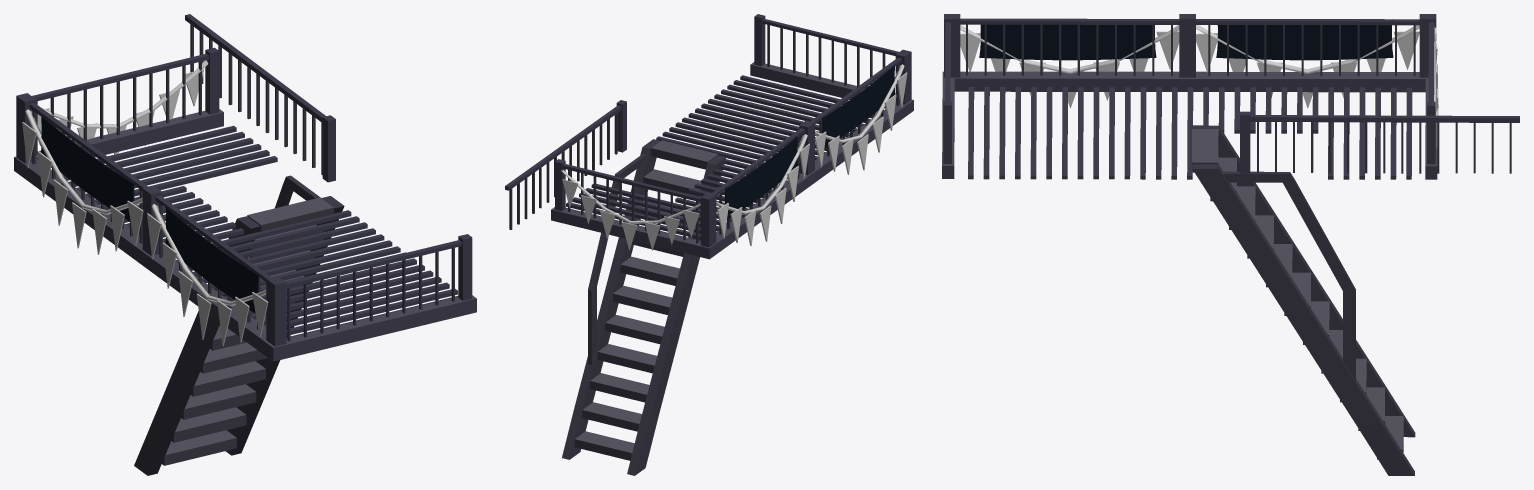
File: CMF1Stairs.fbx
The picture shows the model from 3 angles, left to right: view 1: azimuth 30°, elevation 25°; view 2: azimuth 150°, elevation 25°; view 3: azimuth 270°, elevation 25°; orthographic projection. The views are drawn at different scales.
Parts seen in each view (by area): view 1: BalconyBottom.011, BalconyBottom.010, Stairs.108, StairSides.004, BalconyRailing.105, BalconyRailing.037, BalconyRailing.106, BalconyRailing.104, FK_Banner.008, FK_Banner.007, Arc.005, Arc.004 (+1 smaller); view 2: BalconyBottom.011, Stairs.108, StairSides.004, BalconyBottom.010, BalconyRailing.106, BalconyRailing.037, BalconyRailing.105, BalconyRailing.104, Arc.005, Arc.004, Flags, FK_Banner.007 (+1 smaller); view 3: StairSides.004, BalconyBottom.011, BalconyBottom.010, BalconyRailing.104, FK_Banner.007, FK_Banner.008, Stairs.108, BalconyRailing.037, Arc.005, Arc.004, BalconyRailing.105, BalconyRailing.106.
Part boxes in pixels (left/top/right/bottom): BalconyBottom.011: left=65, top=125, right=458, bottom=338; BalconyBottom.010: left=14, top=109, right=476, bottom=361; Stairs.108: left=162, top=197, right=333, bottom=465; StairSides.004: left=134, top=175, right=344, bottom=475; BalconyRailing.105: left=266, top=234, right=472, bottom=346; BalconyRailing.037: left=185, top=14, right=335, bottom=182; BalconyRailing.106: left=16, top=47, right=219, bottom=163; BalconyRailing.104: left=29, top=103, right=271, bottom=329; FK_Banner.008: left=41, top=116, right=134, bottom=222; FK_Banner.007: left=165, top=207, right=258, bottom=313; Arc.005: left=22, top=109, right=143, bottom=254; Arc.004: left=147, top=204, right=268, bottom=345; BalconyBottom.011: left=566, top=75, right=873, bottom=241; Stairs.108: left=574, top=140, right=718, bottom=460; StairSides.004: left=562, top=139, right=726, bottom=475; BalconyBottom.010: left=551, top=62, right=913, bottom=259; BalconyRailing.106: left=555, top=159, right=716, bottom=247; BalconyRailing.037: left=505, top=100, right=626, bottom=229; BalconyRailing.105: left=754, top=14, right=911, bottom=104; BalconyRailing.104: left=711, top=57, right=901, bottom=234; Arc.005: left=716, top=134, right=809, bottom=245; Arc.004: left=814, top=64, right=907, bottom=174; Flags: left=561, top=170, right=700, bottom=250; FK_Banner.007: left=822, top=65, right=895, bottom=148; StairSides.004: left=1192, top=125, right=1415, bottom=475; BalconyBottom.011: left=968, top=87, right=1412, bottom=179; BalconyBottom.010: left=942, top=71, right=1437, bottom=179; BalconyRailing.104: left=960, top=14, right=1419, bottom=77; FK_Banner.007: left=979, top=24, right=1156, bottom=60; FK_Banner.008: left=1216, top=25, right=1393, bottom=60; Stairs.108: left=1192, top=129, right=1403, bottom=459; BalconyRailing.037: left=1240, top=111, right=1519, bottom=173; Arc.005: left=1196, top=25, right=1419, bottom=108; Arc.004: left=960, top=25, right=1179, bottom=108; BalconyRailing.105: left=943, top=14, right=960, bottom=163; BalconyRailing.106: left=1419, top=14, right=1436, bottom=164.
Bounding box in the file's own units: 655 × 1083 × 1537.
